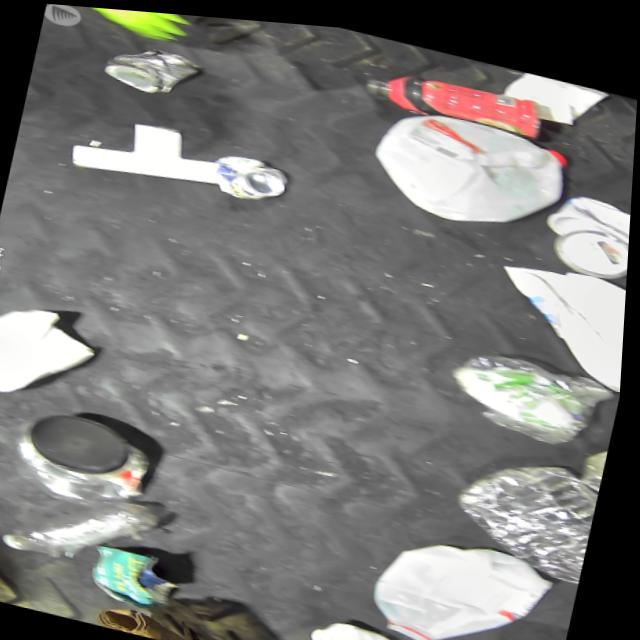can: (101, 33, 202, 102), (212, 144, 292, 204)
milk_jug: (359, 93, 573, 237), (371, 517, 561, 640)
plastic_bottle: (6, 472, 168, 578)
